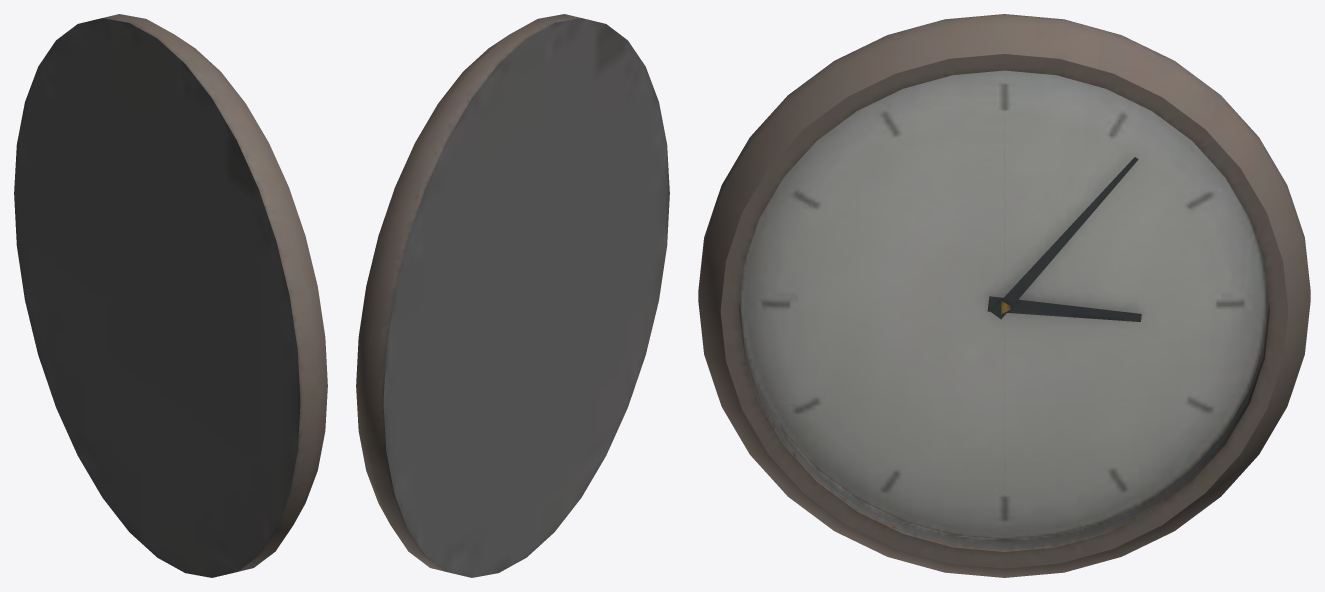
3 views of the same model, side by side, from view 1: azimuth 30°, elevation 25°; view 2: azimuth 150°, elevation 25°; view 3: azimuth 270°, elevation 25° (orthographic). The views are drawn at different scales.
Parts seen in each view (by area): view 1: body0_model0_lod0_mesh0; view 2: body0_model0_lod0_mesh0; view 3: body0_model0_lod0_mesh0, body0_model0_lod0_mesh1.
Part boxes in pixels (<box>): body0_model0_lod0_mesh0: <box>14,14,327,577</box>; body0_model0_lod0_mesh0: <box>356,14,669,577</box>; body0_model0_lod0_mesh0: <box>698,14,1310,577</box>; body0_model0_lod0_mesh1: <box>740,71,1268,549</box>.
Size of the model in its own units: 3.67 by 31.79 by 31.79.
Materials: 2 (2 with a texture image).
